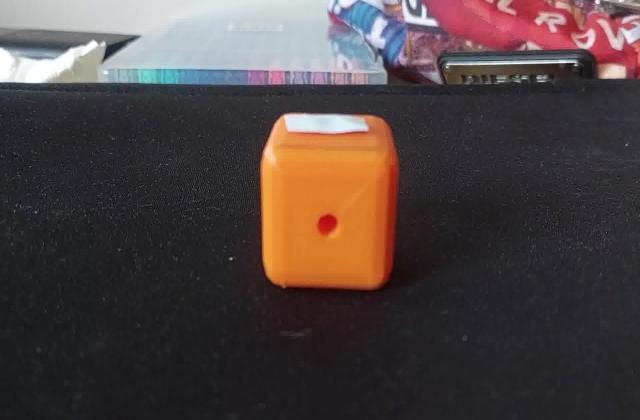cube: (252, 107, 400, 294)
white: (283, 111, 372, 144)
